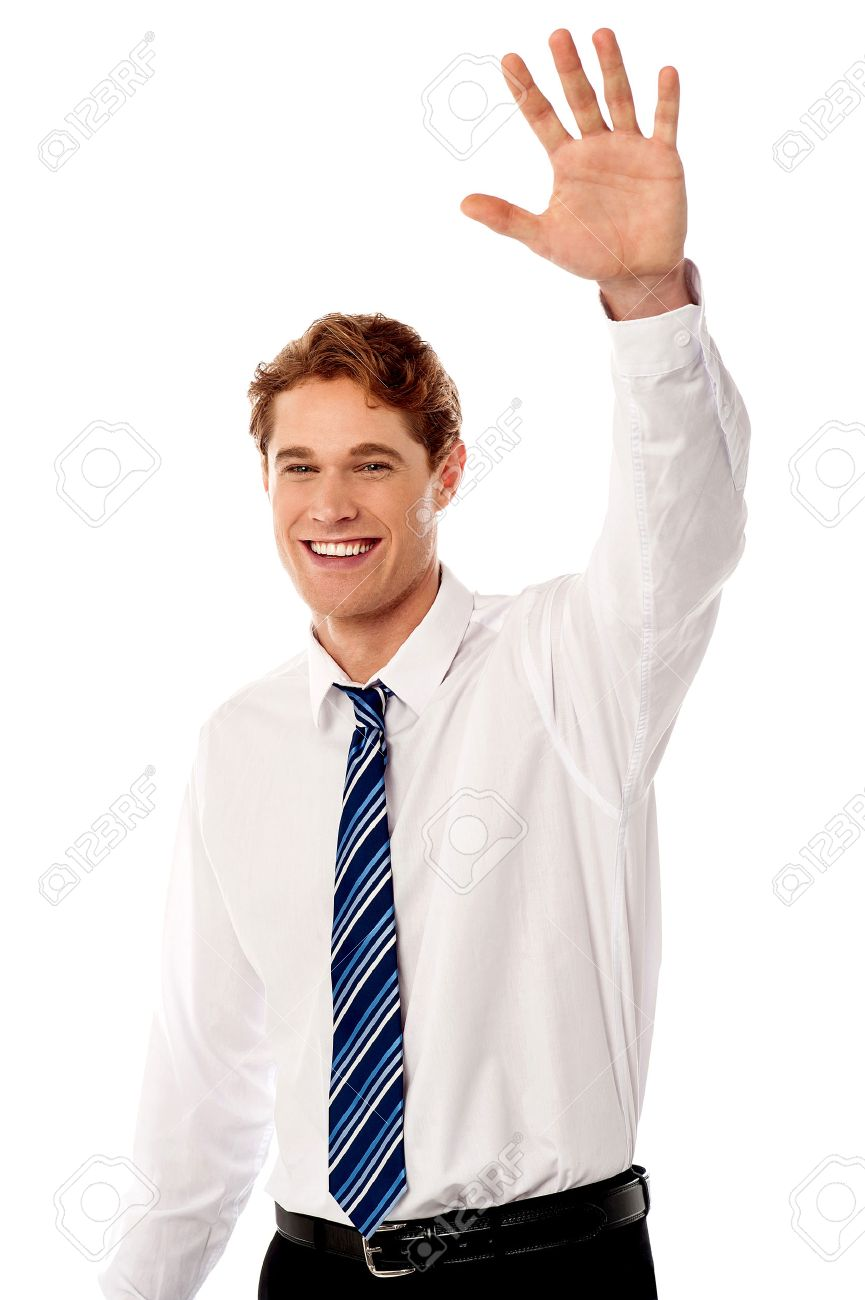open_hand: (436, 17, 748, 302)
